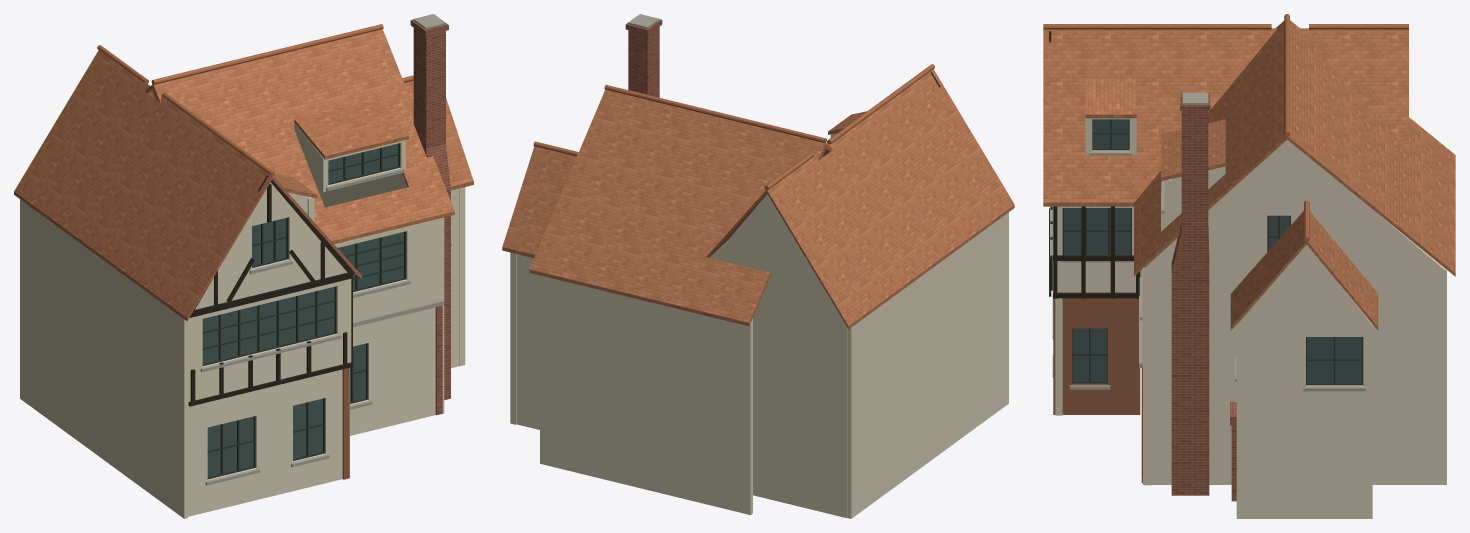
Rendered from changning-xinhua-236-english-garden-villa.fbx.
3 views of the same model, side by side, from view 1: azimuth 30°, elevation 25°; view 2: azimuth 150°, elevation 25°; view 3: azimuth 270°, elevation 25° (orthographic). The views are drawn at different scales.
Parts seen in each view (by area): view 1: part_000156, part_000084, part_000159, part_000040, part_000001, part_000098, part_000002, part_000086, part_000164, part_000153, part_000087, part_000041 (+21 smaller); view 2: part_000127, part_000160, part_000156, part_000084, part_000085, part_000162, part_000146, part_000153, part_000167, part_000128, part_000165; view 3: part_000110, part_000128, part_000158, part_000160, part_000159, part_000151, part_000075, part_000157, part_000153, part_000161, part_000162, part_000059 (+17 smaller).
Part boxes in pixels (box(x1,y1,x2,y2)): part_000156: box(14, 50, 272, 321); part_000084: box(20, 199, 187, 518); part_000159: box(153, 29, 454, 243); part_000040: box(188, 368, 349, 516); part_000001: box(188, 182, 351, 405); part_000098: box(350, 307, 435, 435); part_000002: box(202, 287, 334, 363); part_000086: box(334, 217, 444, 321); part_000164: box(294, 99, 408, 159); part_000153: box(413, 28, 445, 149); part_000087: box(338, 232, 403, 289); part_000041: box(207, 416, 253, 477); part_000127: box(540, 275, 752, 514); part_000160: box(529, 89, 825, 326); part_000156: box(766, 69, 1014, 329); part_000084: box(847, 212, 1008, 518); part_000085: box(712, 194, 847, 518); part_000162: box(502, 146, 576, 257); part_000146: box(516, 254, 539, 429); part_000153: box(628, 27, 659, 97); part_000167: box(604, 84, 826, 143); part_000128: box(510, 252, 516, 424); part_000165: box(827, 64, 934, 144); part_000110: box(1143, 139, 1444, 484); part_000128: box(1236, 244, 1372, 518); part_000158: box(1043, 28, 1277, 206); part_000160: box(1287, 20, 1455, 276); part_000159: box(1134, 21, 1287, 276); part_000151: box(1171, 273, 1209, 495); part_000075: box(1053, 298, 1140, 414); part_000157: box(1298, 28, 1408, 150); part_000153: box(1181, 111, 1208, 230); part_000161: box(1230, 211, 1306, 330); part_000162: box(1306, 211, 1378, 330); part_000059: box(1064, 208, 1130, 254).
Size of the model in its own units: 1223 by 1159 by 1102.
Materials: 9 (2 with a texture image).
